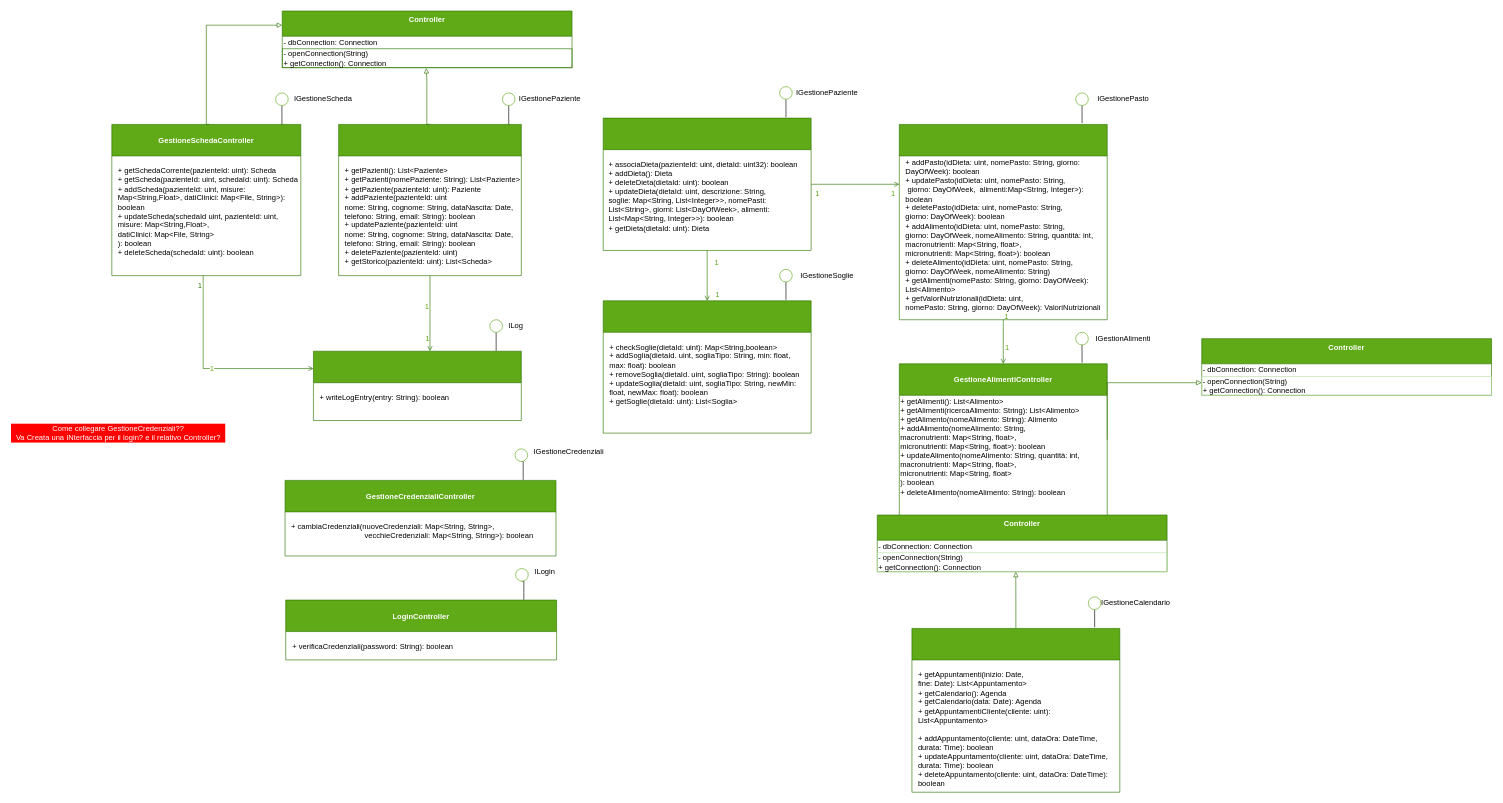
Some shapes in this 1503 by 803 pixel diagram are drawn without their labels. The box of each missing label's shape, as (x1, y1, x2, y2) in pixels:
GestioneCalendarioController: (911, 628, 1120, 792)
GestioneDietaController: (603, 117, 811, 250)
GestionePastoController: (899, 124, 1107, 320)
GestionePazienteController: (338, 124, 521, 276)
GestioneSoglieController: (603, 300, 811, 433)
LogController: (313, 351, 521, 421)
